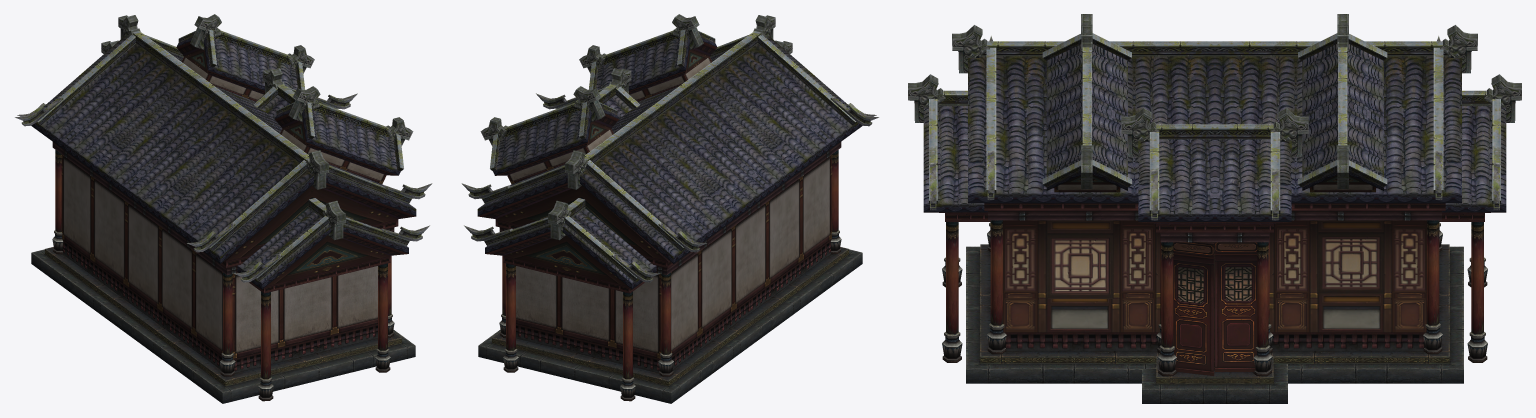
The model's file is HYC_jianzhu_06.FBX.
3 views of the same model, side by side, from view 1: azimuth 30°, elevation 25°; view 2: azimuth 150°, elevation 25°; view 3: azimuth 270°, elevation 25° (orthographic). The views are drawn at different scales.
Visible parts, largest first — view 1: HYC_jianzhu_06; view 2: HYC_jianzhu_06; view 3: HYC_jianzhu_06.
Part boxes in pixels (x1,y1,x2,y2): HYC_jianzhu_06: [15, 14, 432, 403]; HYC_jianzhu_06: [461, 14, 878, 403]; HYC_jianzhu_06: [908, 14, 1521, 403].
Size of the model in its own units: 828 by 703 by 1201.
